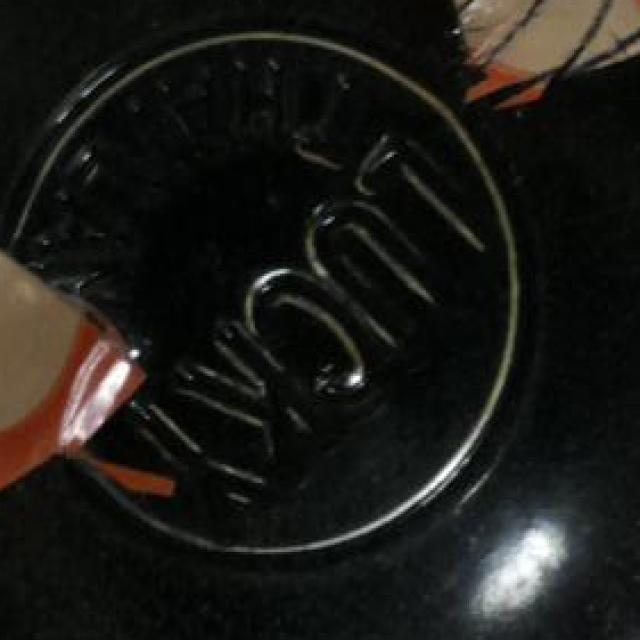Microplastic: (0, 240, 157, 545)
